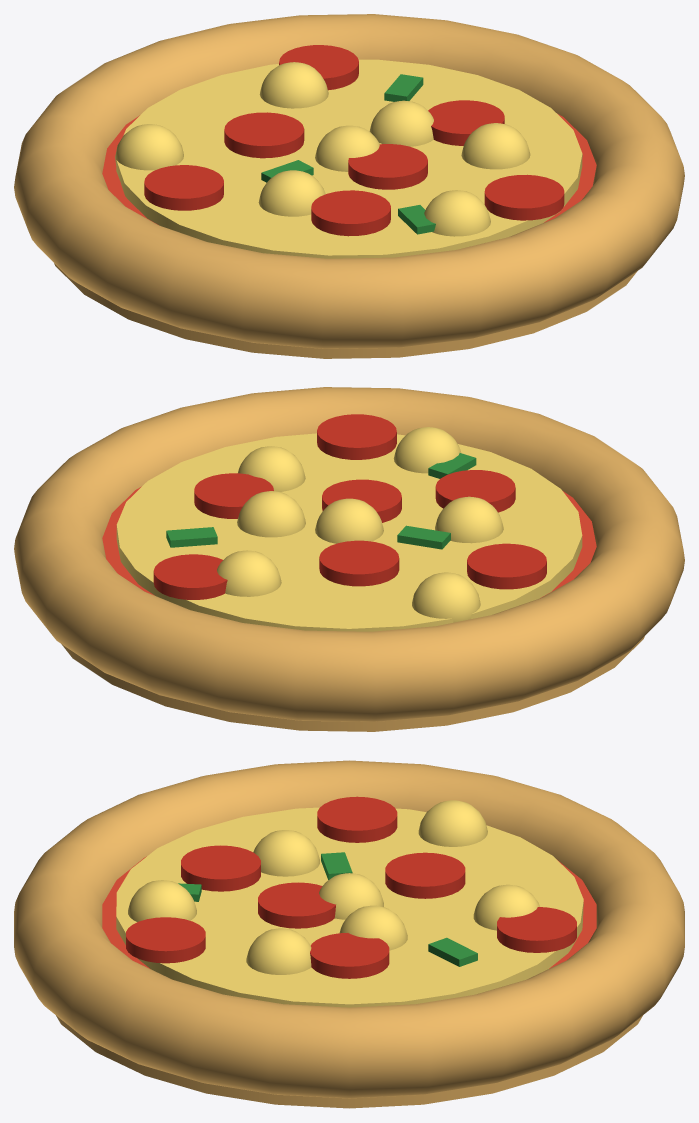
File: PizzaV2.glb
3 renders of one model, top to bottom at view 1: azimuth 30°, elevation 25°; view 2: azimuth 150°, elevation 25°; view 3: azimuth 270°, elevation 25°, orthographic.
Parts seen in each view (by area): view 1: pizzaCrust, pizzaCheese, pizzaTopping (×7), pizzaSauce, leafGreen (×2); view 2: pizzaCrust, pizzaCheese, pizzaTopping (×7), leafGreen (×3), pizzaSauce; view 3: pizzaCrust, pizzaCheese, pizzaTopping (×7), pizzaSauce, leafGreen (×2).
Boxes of the visible parts, <box> form: pizzaCrust: <box>14,14,684,358</box>; pizzaCheese: <box>115,59,582,258</box>; pizzaTopping (×7): <box>144,45,564,236</box>; pizzaSauce: <box>102,113,596,225</box>; leafGreen (×2): <box>384,74,435,234</box>; pizzaCrust: <box>14,387,684,731</box>; pizzaCheese: <box>116,427,582,631</box>; pizzaTopping (×7): <box>153,414,546,599</box>; leafGreen (×3): <box>166,453,476,549</box>; pizzaSauce: <box>102,486,596,598</box>; pizzaCrust: <box>14,760,684,1108</box>; pizzaCheese: <box>116,800,583,1007</box>; pizzaTopping (×7): <box>126,796,576,978</box>; pizzaSauce: <box>102,856,596,968</box>; leafGreen (×2): <box>321,852,477,966</box>.
Bounding box in the file's own units: 0.504 × 0.084 × 0.5003.
